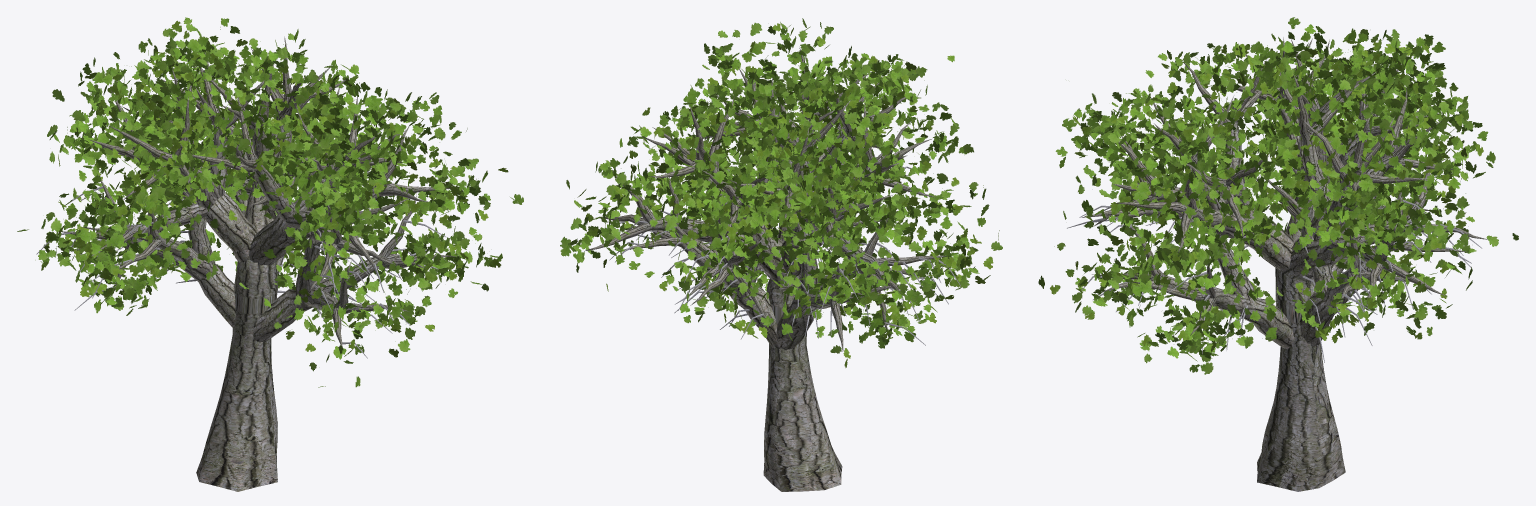
3 views of the same model, side by side, from view 1: azimuth 30°, elevation 25°; view 2: azimuth 150°, elevation 25°; view 3: azimuth 270°, elevation 25° (orthographic). The views are drawn at different scales.
Parts seen in each view (by area): view 1: Tilo foliage cards, Tilo_EasyTree_V022_Proof, Tilo V022 delicate lower branches; view 2: Tilo foliage cards, Tilo_EasyTree_V022_Proof, Tilo V022 delicate lower branches; view 3: Tilo foliage cards, Tilo_EasyTree_V022_Proof, Tilo V022 delicate lower branches.
Boxes of the visible parts, bbox=[...] form: Tilo foliage cards: bbox=[17, 17, 523, 387]; Tilo_EasyTree_V022_Proof: bbox=[61, 36, 456, 491]; Tilo V022 delicate lower branches: bbox=[36, 166, 446, 358]; Tilo foliage cards: bbox=[560, 18, 1002, 367]; Tilo_EasyTree_V022_Proof: bbox=[584, 48, 945, 491]; Tilo V022 delicate lower branches: bbox=[606, 147, 960, 345]; Tilo foliage cards: bbox=[1038, 17, 1518, 374]; Tilo_EasyTree_V022_Proof: bbox=[1081, 37, 1487, 491]; Tilo V022 delicate lower branches: bbox=[1067, 150, 1482, 362].
Size of the model in its own units: 5.91 by 5.74 by 5.76.
2 materials, 2 textured.
